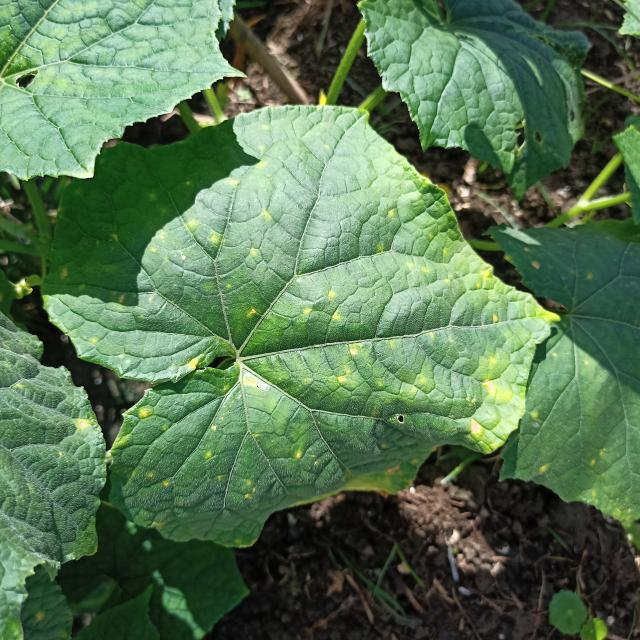disease_cucumber: (383, 229, 534, 462), (134, 170, 278, 284), (125, 404, 216, 490), (301, 283, 365, 395)
